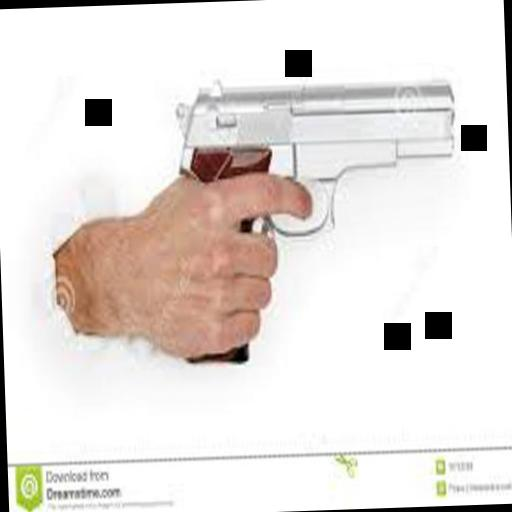Handgun: (167, 66, 465, 373)
